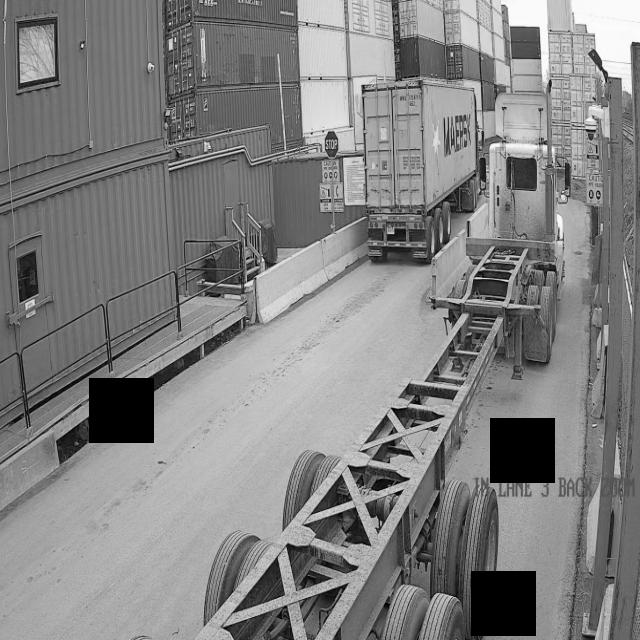container_company_logo: (430, 106, 477, 174)
driver: (467, 172, 489, 236)
license_plate: (379, 219, 406, 240)
truck_with_container: (362, 78, 480, 263)
truck_without_container: (193, 139, 570, 640)
